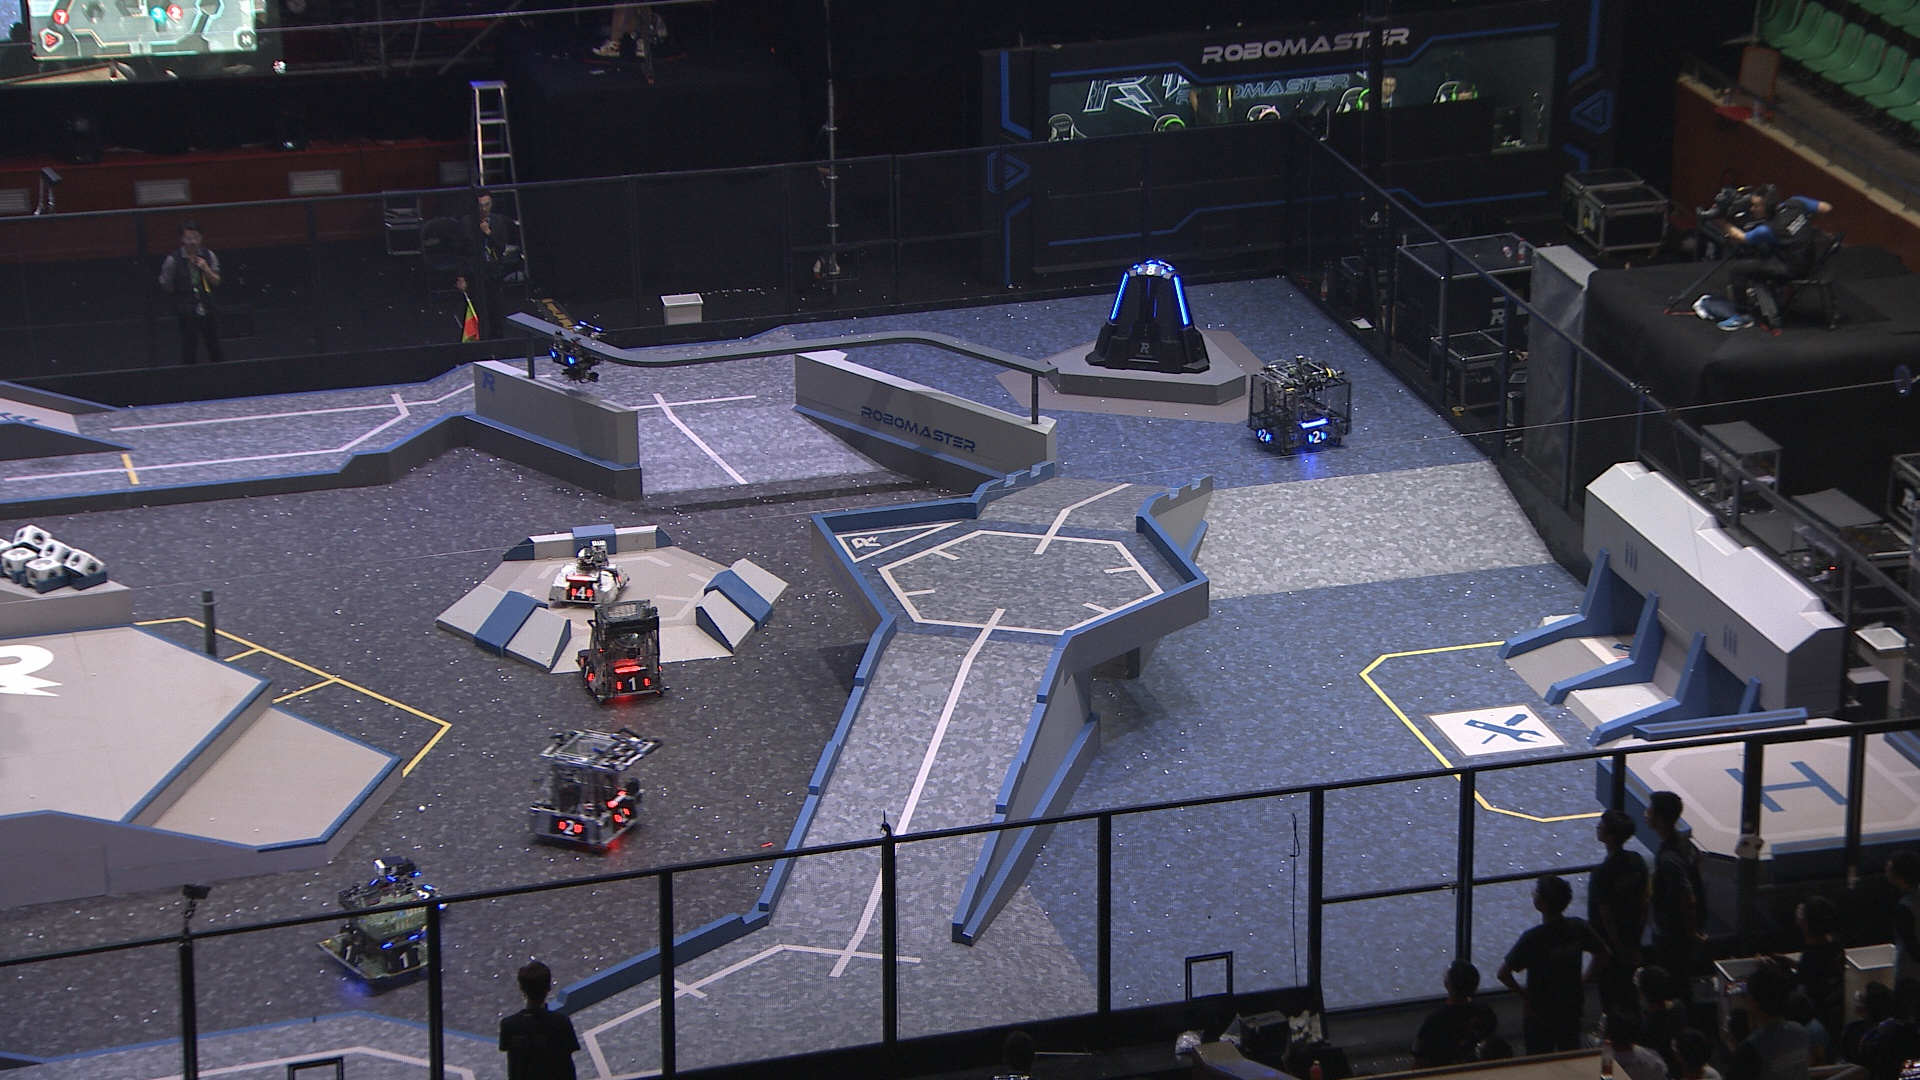armor: (1109, 272, 1130, 320), (385, 948, 425, 973), (1174, 276, 1191, 327), (338, 939, 363, 967), (615, 675, 651, 694), (556, 818, 584, 836), (549, 349, 578, 367), (1135, 262, 1168, 277), (612, 806, 633, 827), (570, 585, 593, 603), (414, 884, 434, 902), (1307, 429, 1328, 444), (579, 665, 595, 683), (612, 574, 626, 591), (1257, 427, 1273, 442)
base: (1084, 261, 1215, 376)
car: (527, 727, 647, 851), (318, 878, 439, 989), (1249, 356, 1354, 458), (576, 597, 674, 704), (344, 856, 448, 927), (549, 541, 629, 609)
watcher: (549, 318, 604, 385)
